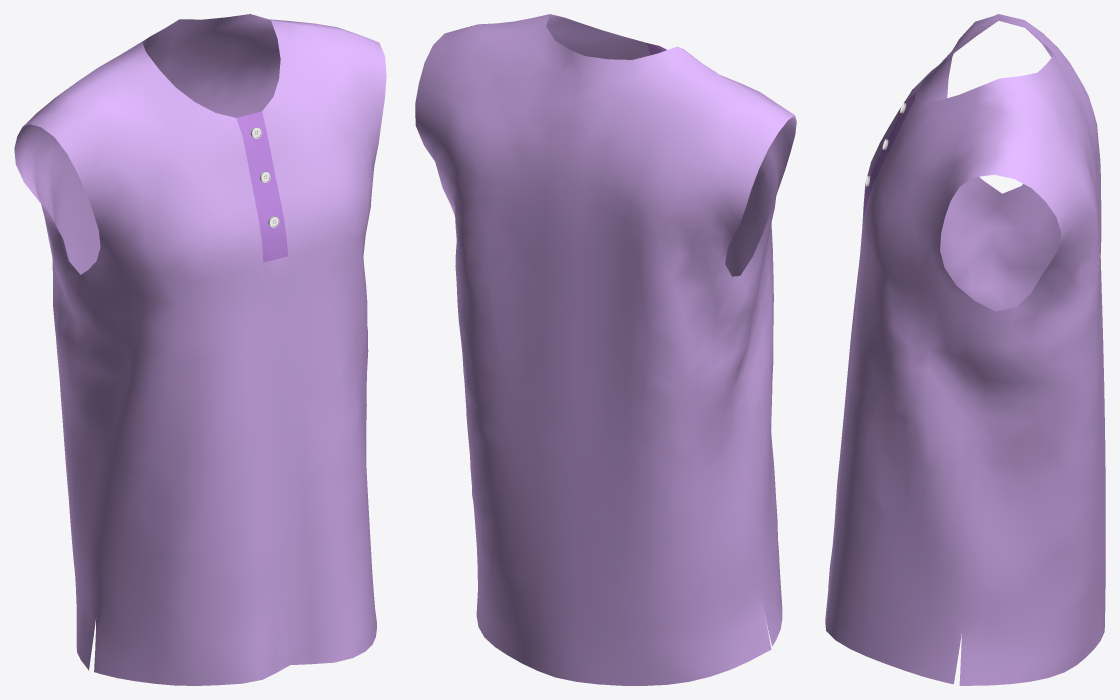
File: M_polo_05_maya.fbx
3 renders of one model, left to right at view 1: azimuth 30°, elevation 25°; view 2: azimuth 150°, elevation 25°; view 3: azimuth 270°, elevation 25°, orthographic. The views are drawn at different scales.
Visible parts, largest first — view 1: M_polo_05; view 2: M_polo_05; view 3: M_polo_05.
Part boxes in pixels (x1,y1,x2,y2): M_polo_05: (14, 14, 386, 685); M_polo_05: (415, 14, 796, 685); M_polo_05: (825, 14, 1105, 685).
Bounding box in the file's own units: 125 × 210 × 91.93.
